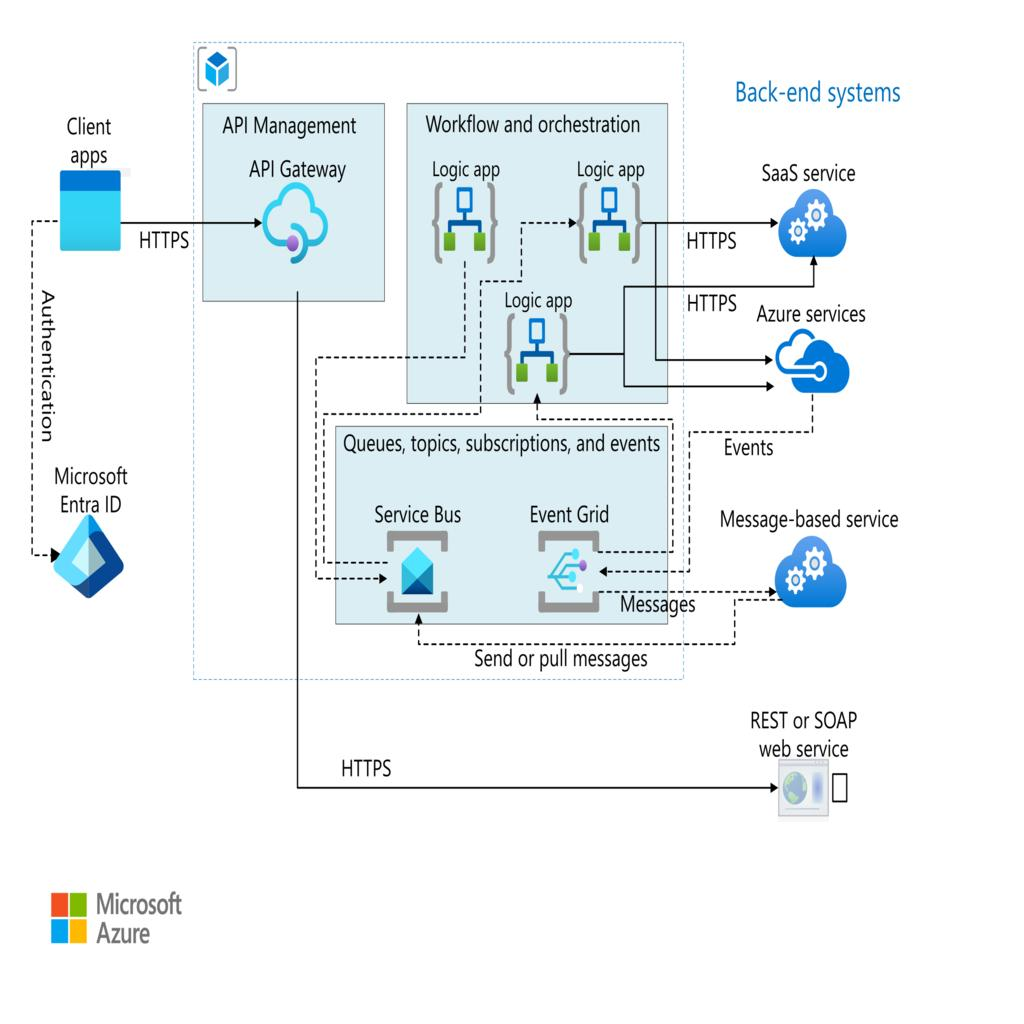actor: (58, 168, 122, 252), (773, 190, 847, 262), (773, 326, 847, 398), (773, 536, 847, 608), (776, 748, 850, 820)
api_gateway: (259, 169, 329, 251)
compute: (589, 184, 630, 256), (516, 314, 557, 386), (440, 184, 480, 256)
data_flow: (296, 292, 771, 789), (389, 248, 541, 477), (316, 318, 442, 574), (417, 640, 736, 646), (29, 225, 34, 553), (630, 220, 790, 226), (623, 284, 813, 289), (623, 384, 770, 390), (120, 220, 259, 226), (623, 356, 770, 361), (609, 590, 773, 594), (688, 428, 811, 432), (520, 220, 572, 226)
database_storage: (386, 530, 448, 612), (538, 530, 599, 612)
network_security: (53, 514, 127, 596)
trust_boundary: (192, 37, 684, 680), (406, 104, 668, 402), (334, 418, 672, 626), (203, 104, 385, 302)
